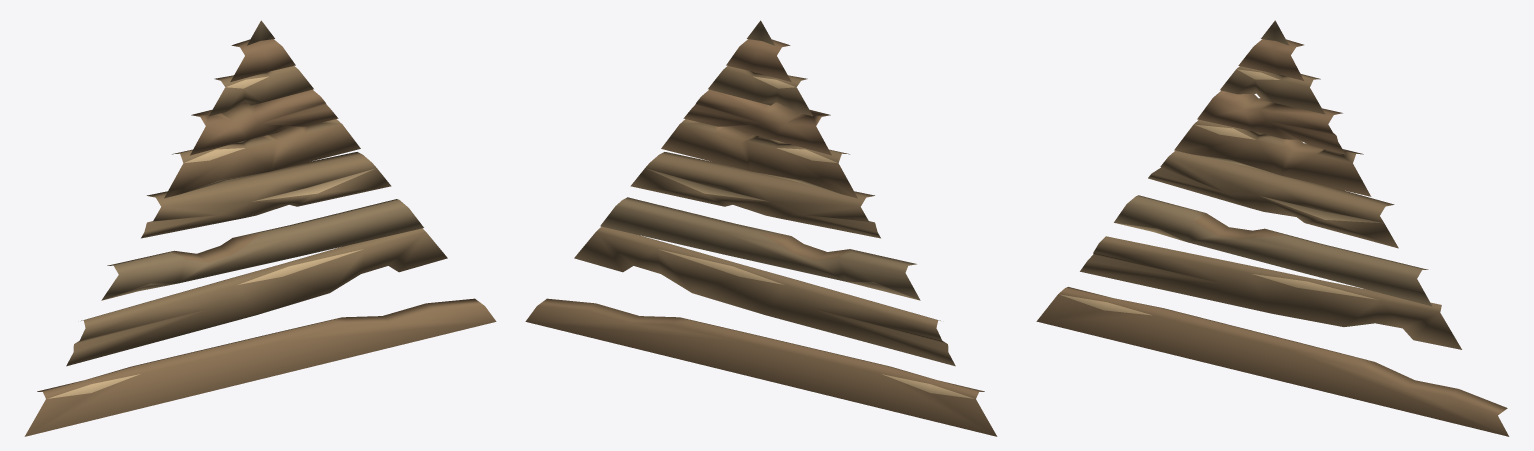
File: rpgpp_av_roof_end_01_6x5_wall_01a.gltf
The picture shows the model from 3 angles, left to right: view 1: azimuth 30°, elevation 25°; view 2: azimuth 150°, elevation 25°; view 3: azimuth 330°, elevation 25°; orthographic projection.
Visible parts, largest first — view 1: rpgpp_av_roof_end_01_6x5_wall_01a; view 2: rpgpp_av_roof_end_01_6x5_wall_01a; view 3: rpgpp_av_roof_end_01_6x5_wall_01a.
Boxes of the visible parts, bbox=[...] form: rpgpp_av_roof_end_01_6x5_wall_01a: bbox=[24, 20, 496, 436]; rpgpp_av_roof_end_01_6x5_wall_01a: bbox=[525, 20, 997, 436]; rpgpp_av_roof_end_01_6x5_wall_01a: bbox=[1036, 20, 1509, 436].
Size of the model in its own units: 0.0669 by 0.0485 by 0.00374.
1 material, 1 textured.
